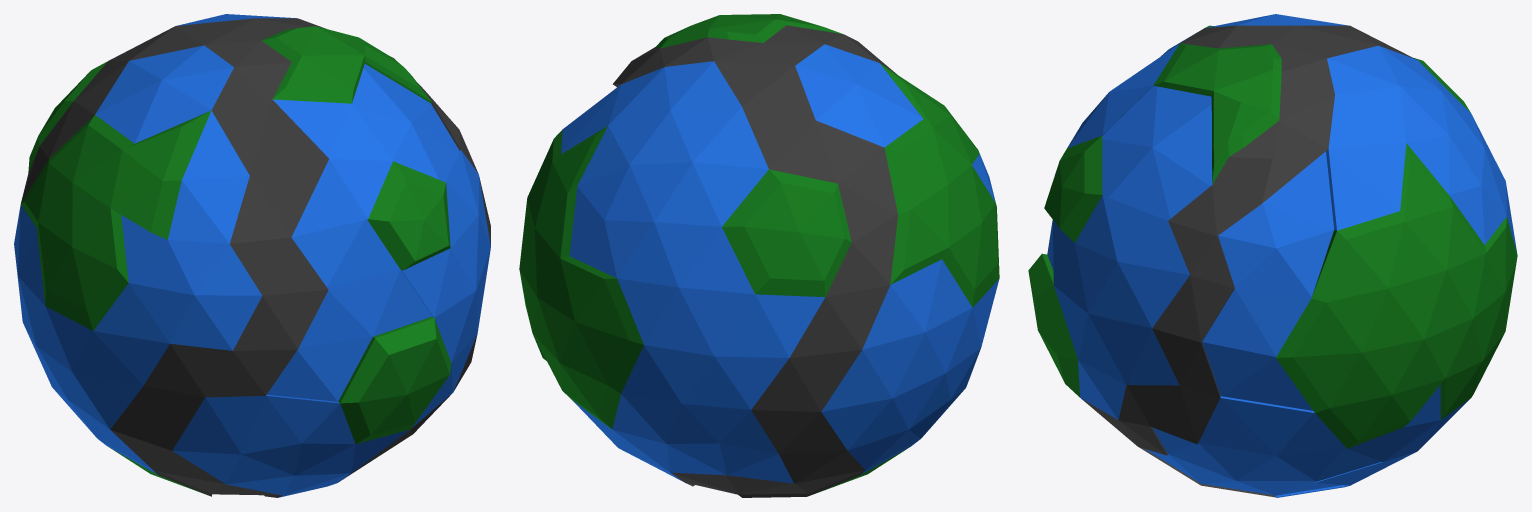
The model's file is earth3.glb.
The picture shows the model from 3 angles, left to right: view 1: azimuth 30°, elevation 25°; view 2: azimuth 150°, elevation 25°; view 3: azimuth 270°, elevation 25°; orthographic projection.
Visible parts, largest first — view 1: Icosphere.007; view 2: Icosphere.007; view 3: Icosphere.007.
Part boxes in pixels (x1,y1,x2,y2): Icosphere.007: [14, 14, 490, 497]; Icosphere.007: [519, 14, 999, 497]; Icosphere.007: [1028, 14, 1517, 497].
Bounding box in the file's own units: 28.88 × 28.86 × 29.15.
